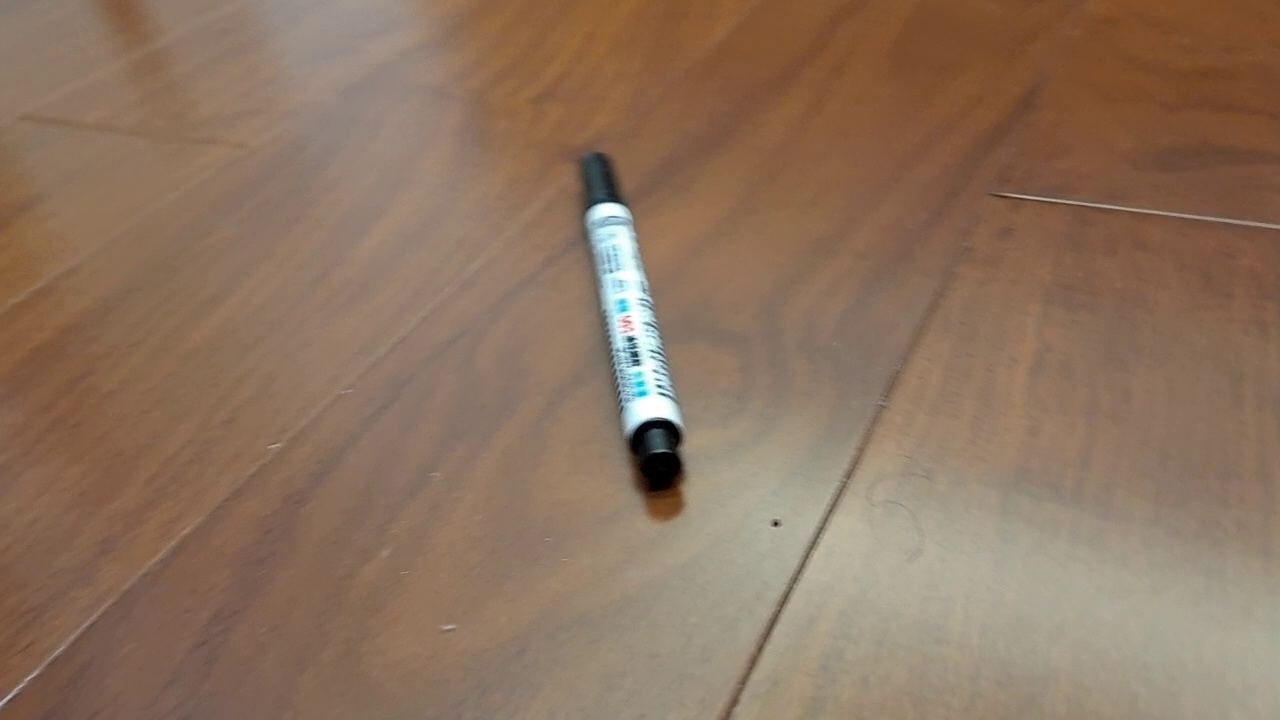pen: (577, 150, 685, 491)
